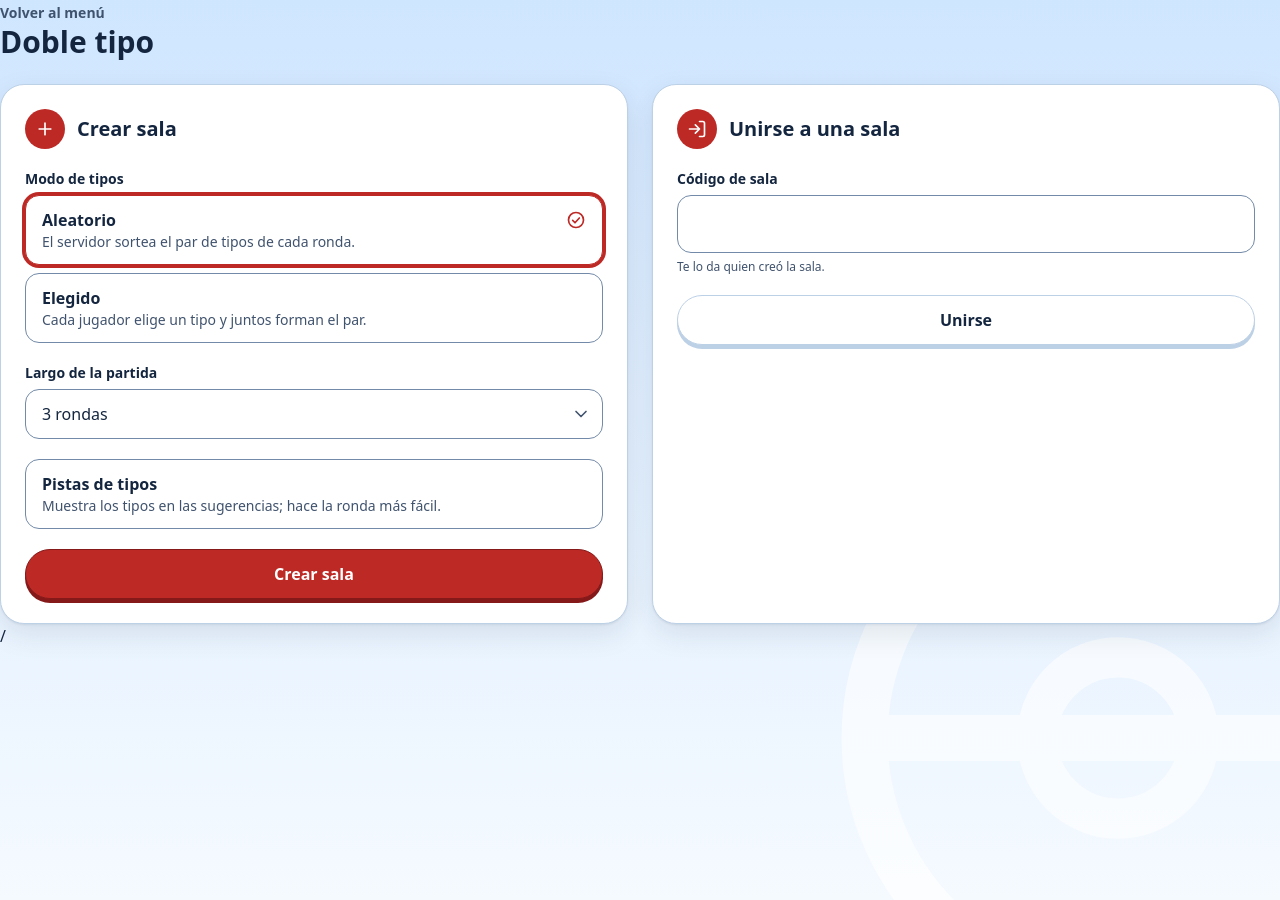
Test: lobby: crear sala › cambiar de largo quita el error anterior
Select "Personalizada: máximo de rondas" in the dropdown labelled "Largo de la partida": (314, 414) x1=25 y1=389 x2=603 y2=439
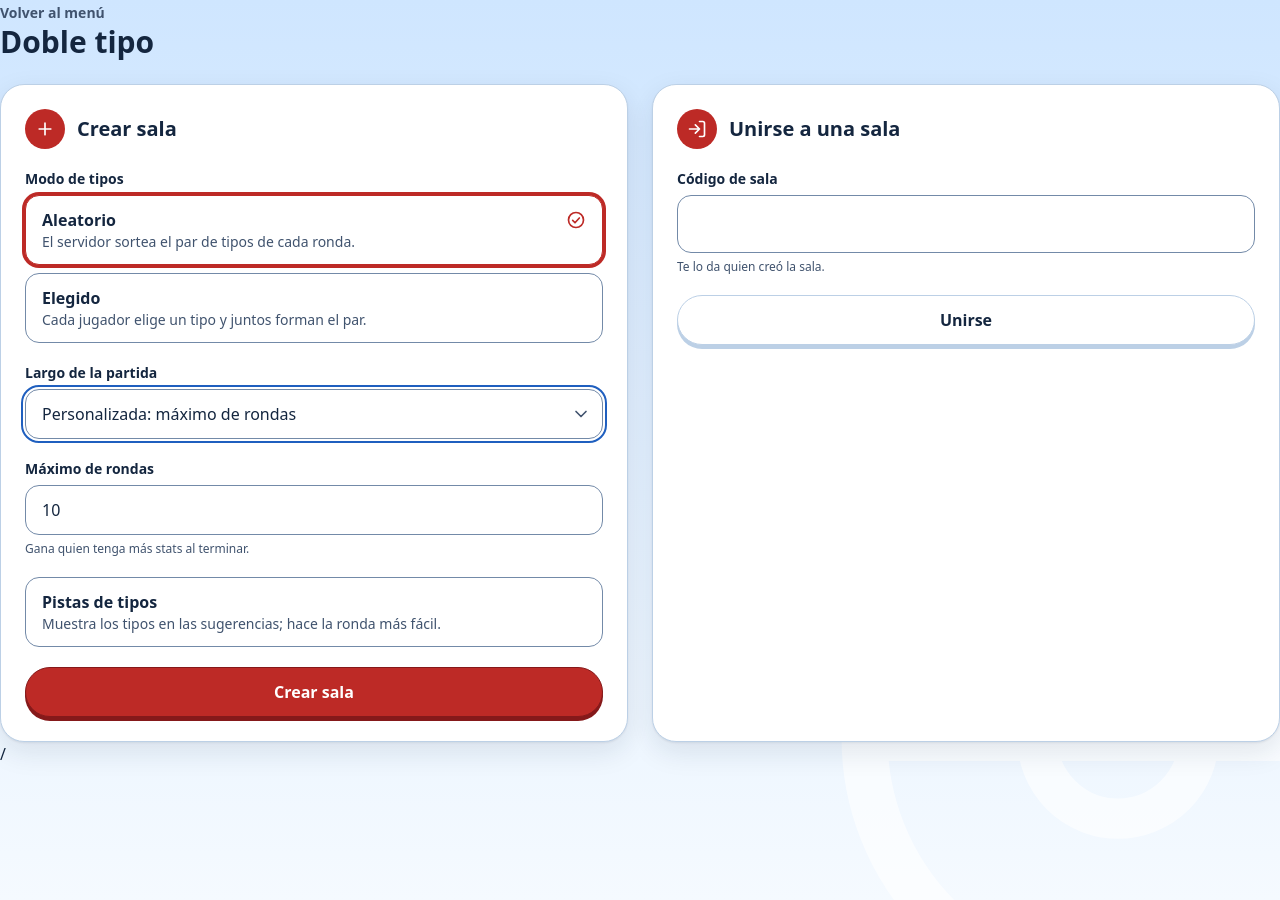
Clear the field labelled "Máximo de rondas": (314, 510) x1=25 y1=485 x2=603 y2=535
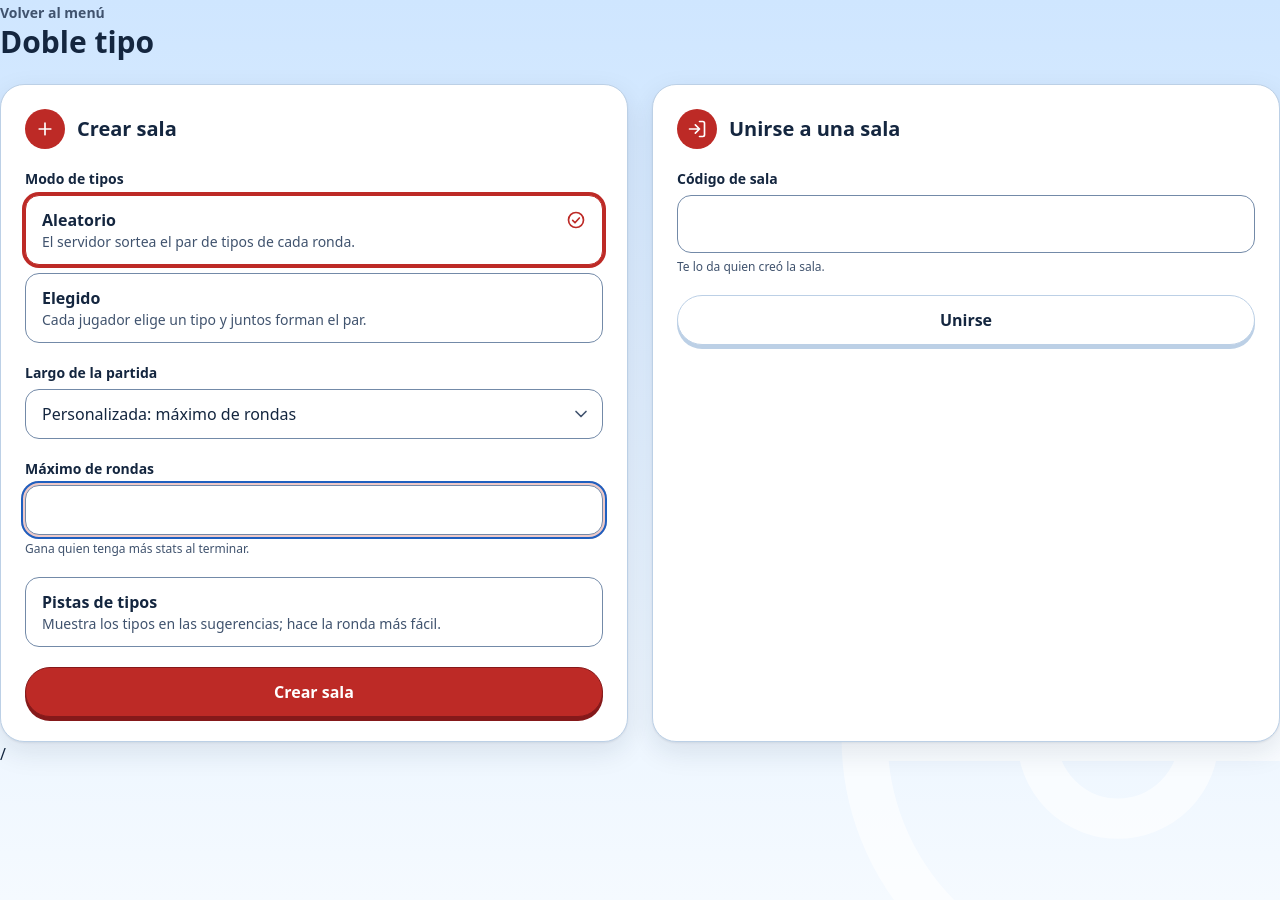
Click the button "Crear sala": (314, 692) x1=25 y1=667 x2=603 y2=717
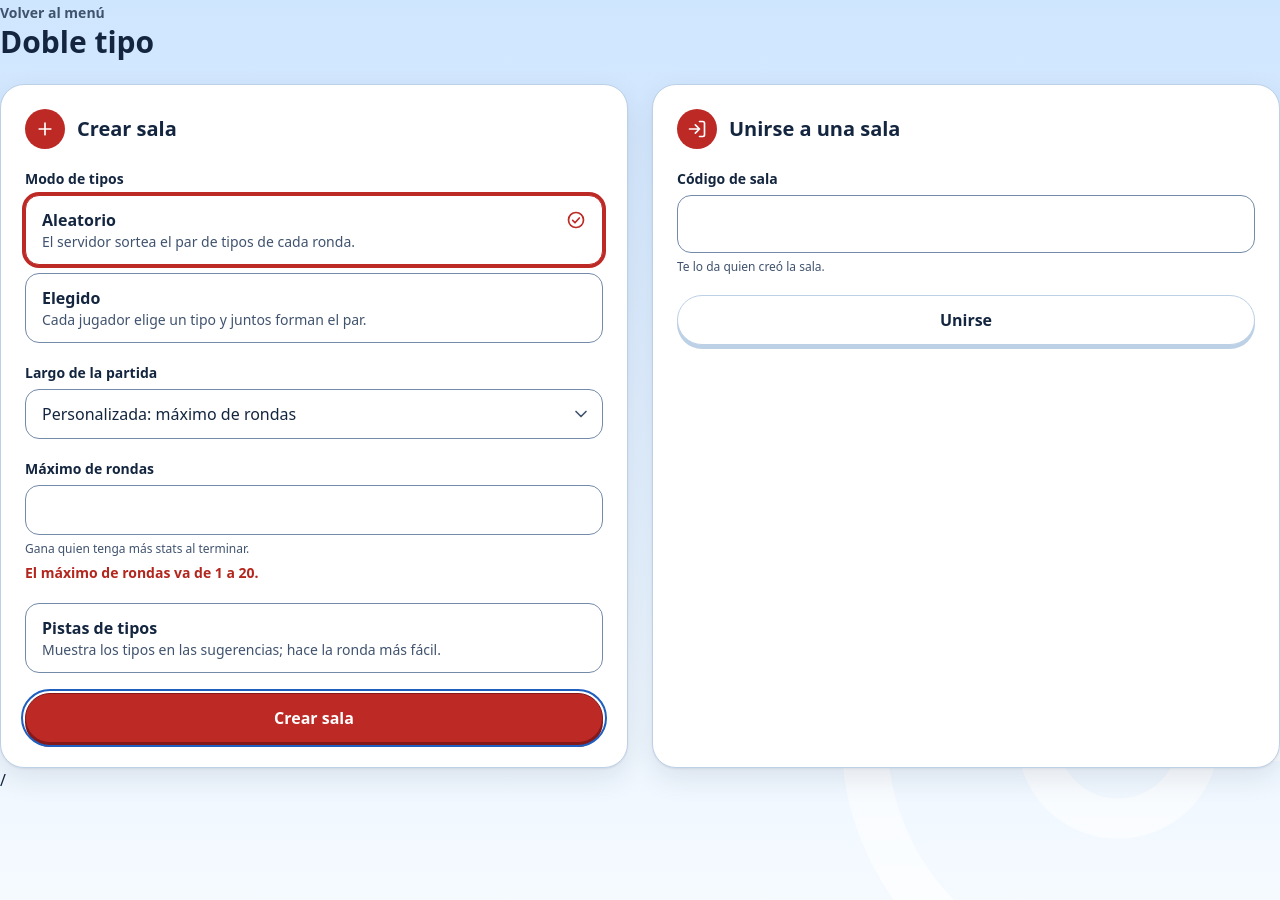
Now the message "El máximo de rondas va de 1 a 20." is shown, box x1=25 y1=563 x2=259 y2=582
Select "3 rondas" in the dropdown labelled "Largo de la partida": (314, 414) x1=25 y1=389 x2=603 y2=439
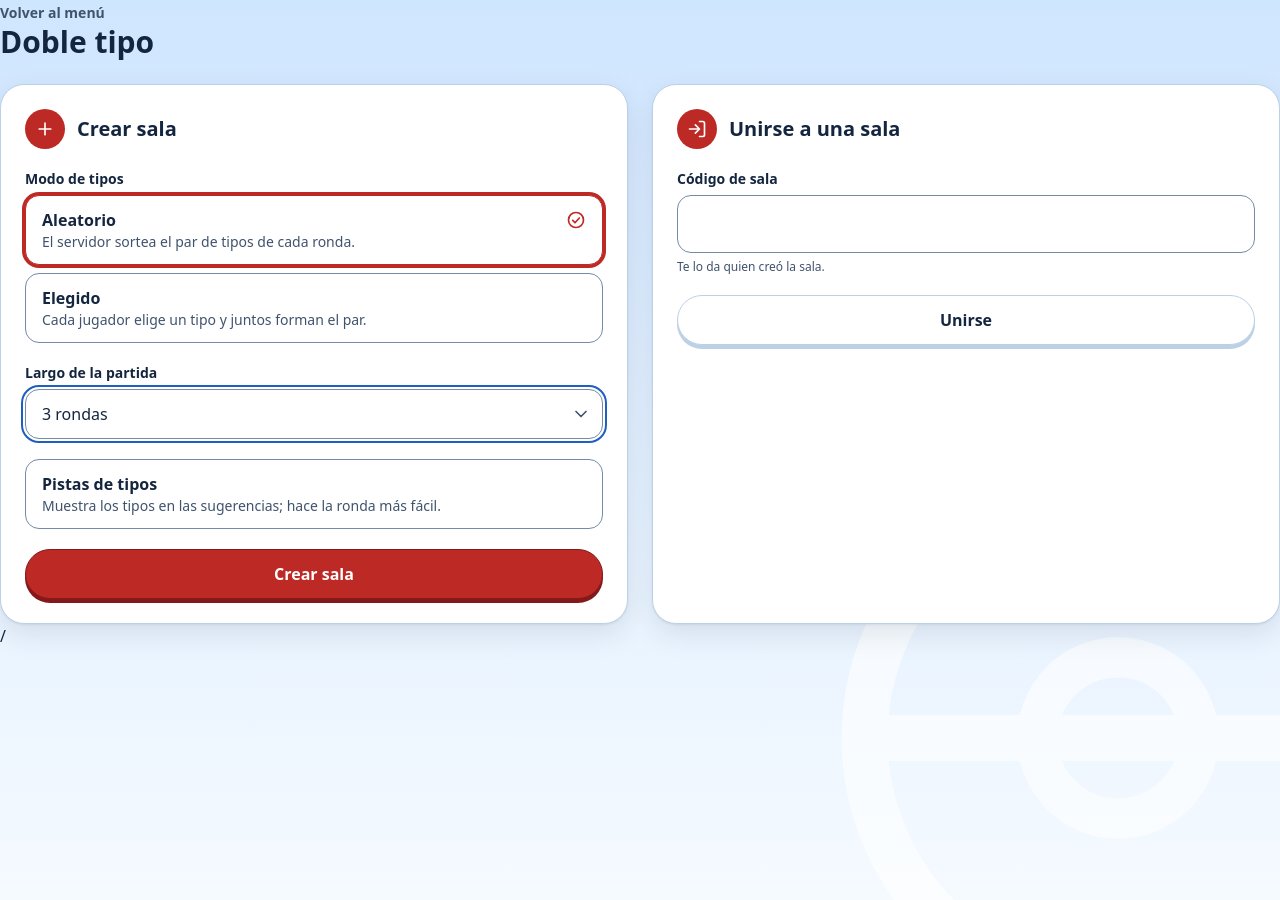
Now the message "El máximo de rondas va de 1 a 20." is gone
